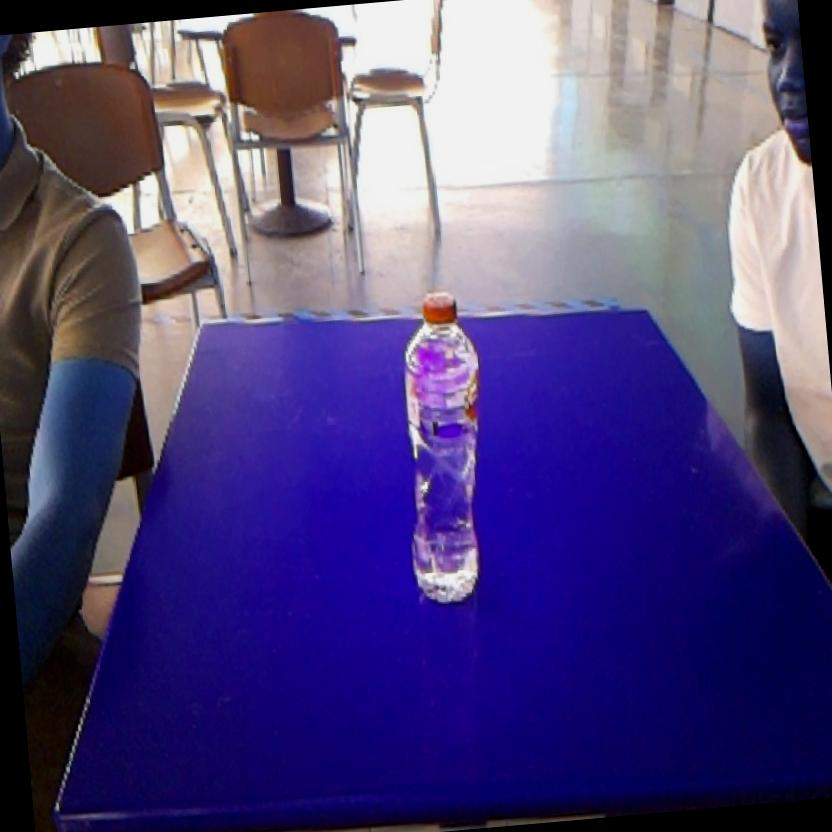good: (382, 282, 506, 617)
